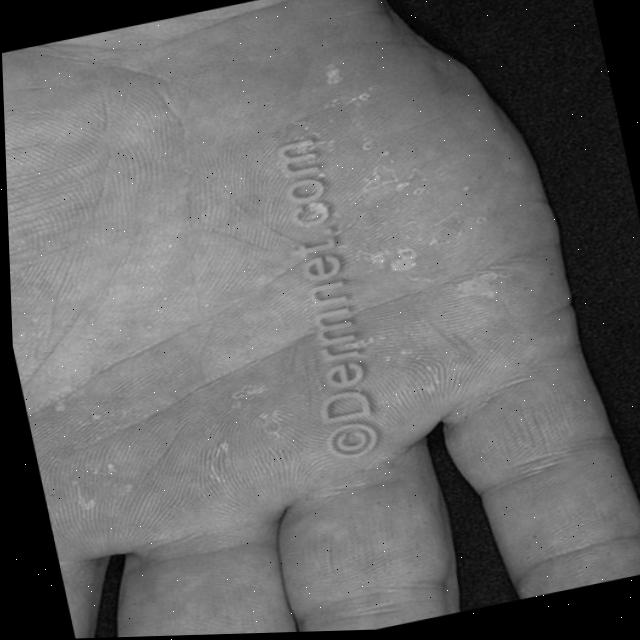Eczema: (1, 19, 564, 588)
